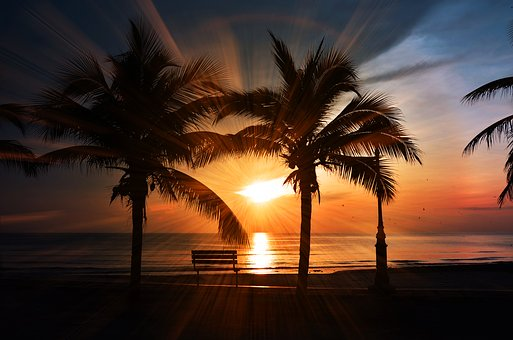sea: (10, 12, 513, 338)
tree: (66, 54, 214, 272), (252, 54, 400, 272)
